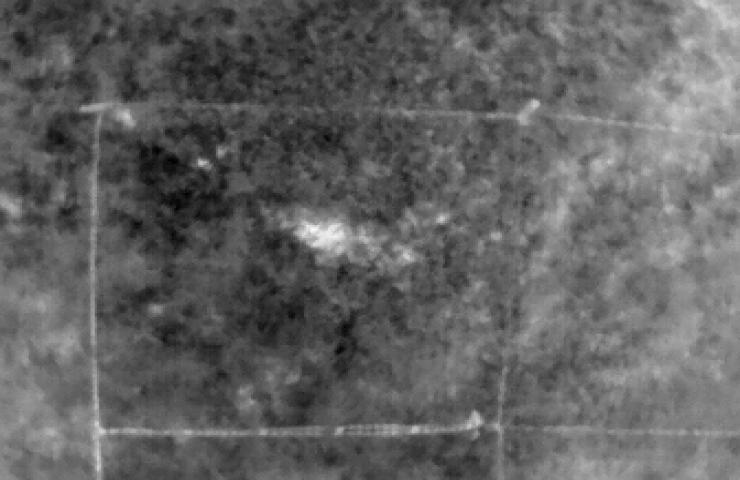landmines: (287, 212, 355, 266)
